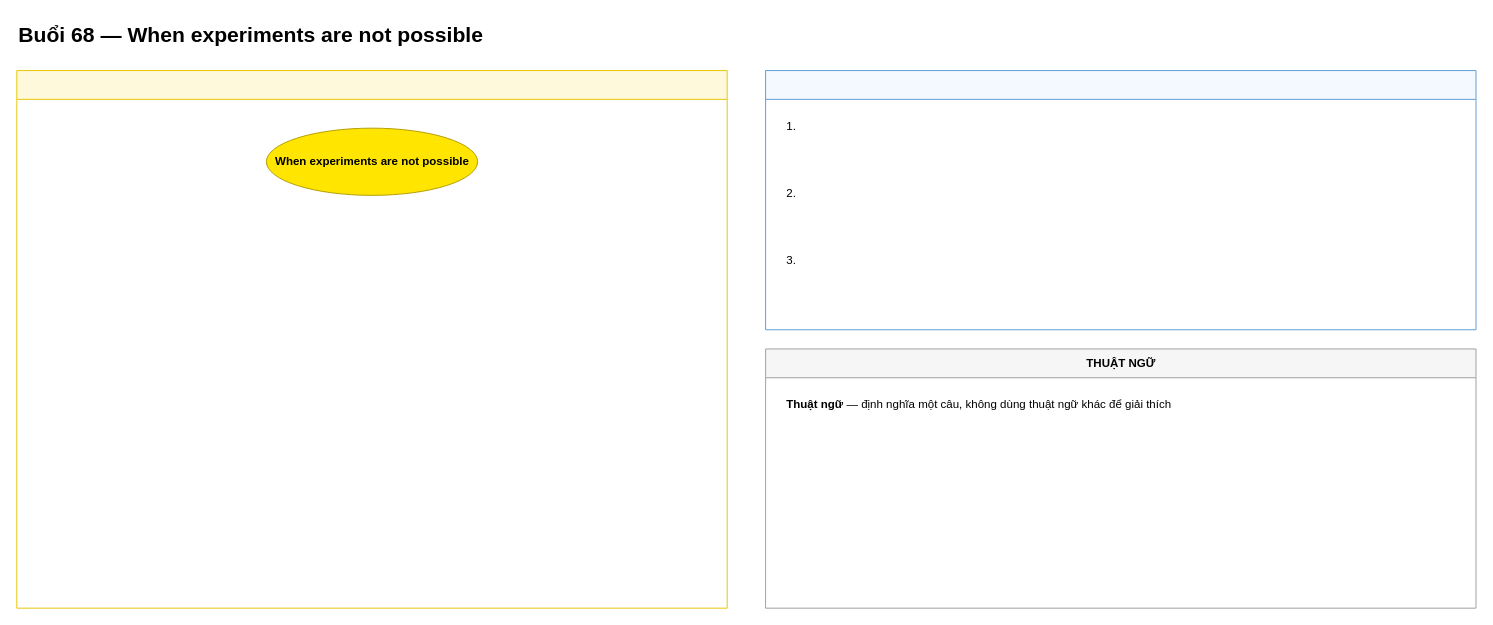
Image size: 1493x625. Some labels were removed from this diagram. The shapes that lost their labels are listed below. From the top down, each one's box as (x1, y1, x2, y2) in pixels, then its label:
(765, 70, 1476, 330): KEY TAKEAWAY — ba điều phải nhớ
(16, 70, 727, 608): MINDMAP
